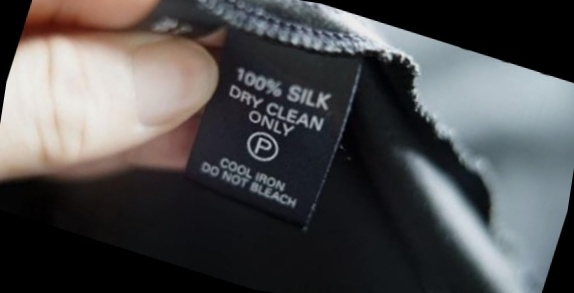dry_clean_any_solvent_except_trichloroethylene: (243, 126, 286, 166)
